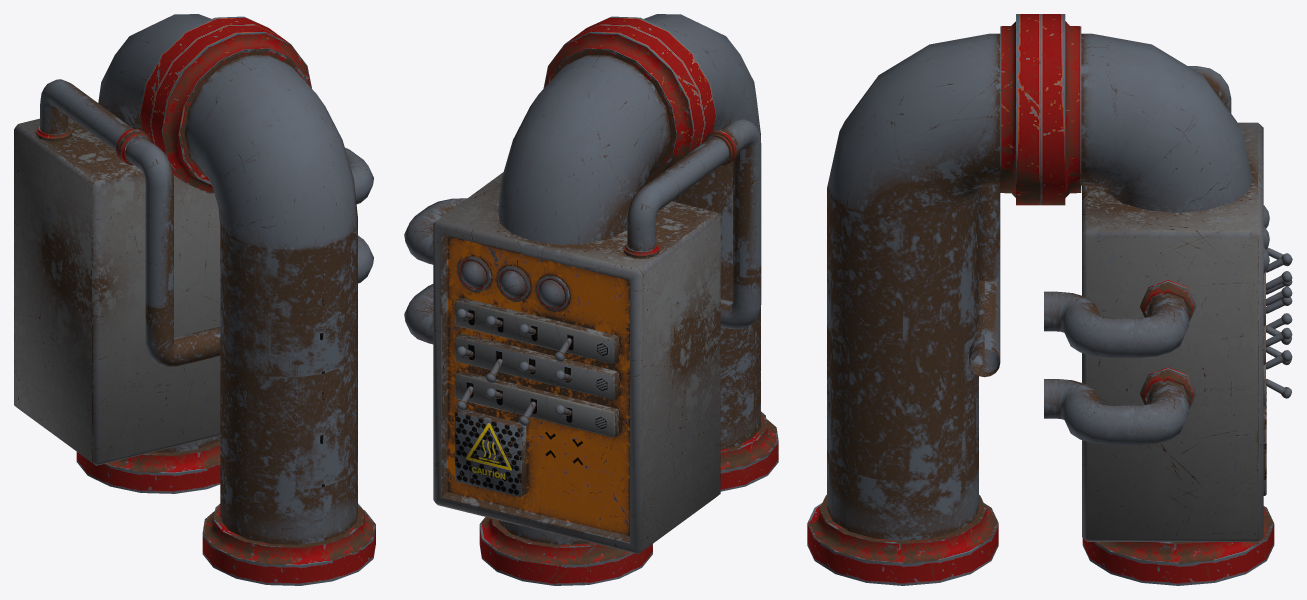
The model's file is barrier_01.fbx.
The picture shows the model from 3 angles, left to right: view 1: azimuth 30°, elevation 25°; view 2: azimuth 150°, elevation 25°; view 3: azimuth 270°, elevation 25°; orthographic projection. The views are drawn at different scales.
Visible parts, largest first — view 1: Powerdevice_01, Powerdevice_01.002, Powerdevice_01.003, Powerdevice_01.001; view 2: Powerdevice_01, Powerdevice_01.002, Powerdevice_01.003, Powerdevice_01.001, light_03, light_01, light_02; view 3: Powerdevice_01.002, Powerdevice_01, Powerdevice_01.003, Powerdevice_01.001.
Boxes of the visible parts, <box> form: Powerdevice_01: <box>14,79,373,465</box>; Powerdevice_01.002: <box>98,14,357,490</box>; Powerdevice_01.003: <box>202,220,375,585</box>; Powerdevice_01.001: <box>76,436,220,493</box>; Powerdevice_01: <box>404,119,761,553</box>; Powerdevice_01.002: <box>498,14,760,281</box>; Powerdevice_01.003: <box>720,280,778,491</box>; Powerdevice_01.001: <box>479,517,652,585</box>; light_03: <box>539,280,565,307</box>; light_01: <box>460,261,486,288</box>; light_02: <box>500,270,525,298</box>; Powerdevice_01.002: <box>827,14,1252,481</box>; Powerdevice_01: <box>969,66,1292,541</box>; Powerdevice_01.003: <box>807,188,998,585</box>; Powerdevice_01.001: <box>1082,506,1274,585</box>.
Size of the model in its own units: 1087 by 1728 by 1455.
